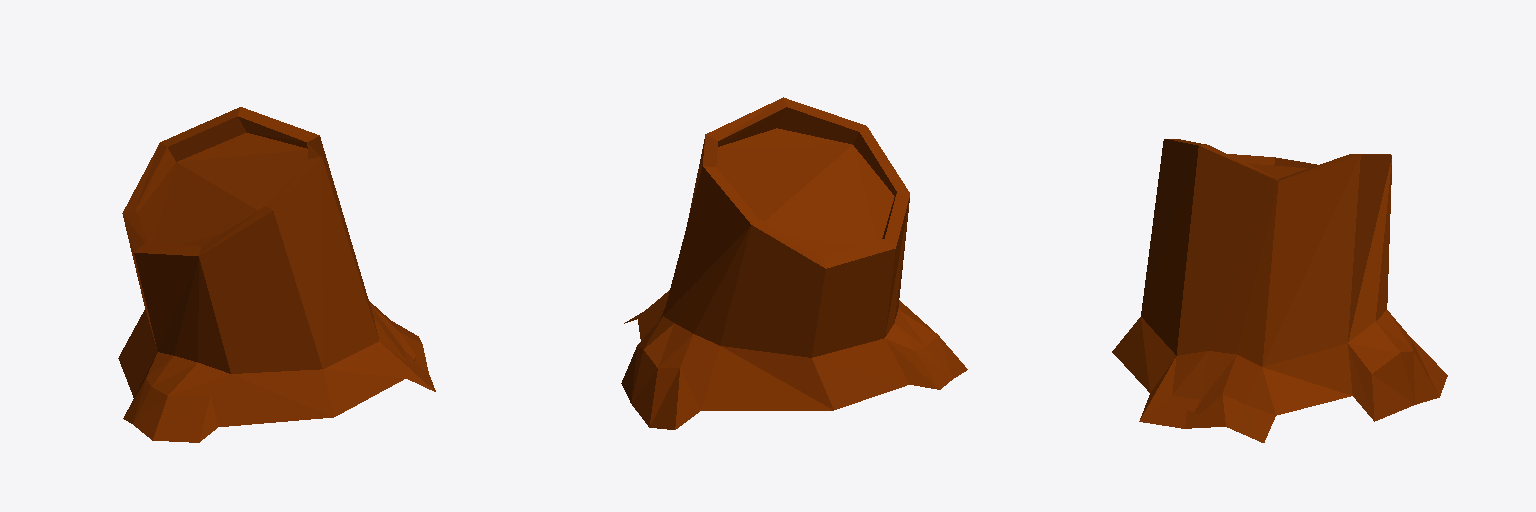
Rendered from Parez_Dub_1_Mk2.obj.
3 views of the same model, side by side, from view 1: azimuth 30°, elevation 25°; view 2: azimuth 150°, elevation 25°; view 3: azimuth 270°, elevation 25° (orthographic).
Visible parts, largest first — view 1: Parez_Dub_1_Mk2; view 2: Parez_Dub_1_Mk2; view 3: Parez_Dub_1_Mk2.
Part boxes in pixels (x1,y1,x2,y2): Parez_Dub_1_Mk2: (118, 107, 435, 442); Parez_Dub_1_Mk2: (621, 97, 967, 429); Parez_Dub_1_Mk2: (1112, 139, 1447, 442).
Bounding box in the file's own units: 294 × 223 × 277.